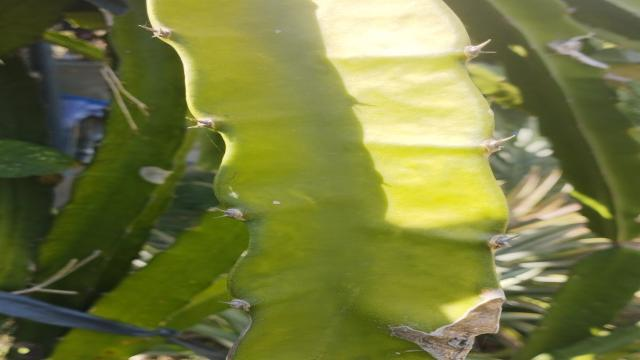stemcanker: (263, 197, 285, 210), (231, 189, 248, 201)
